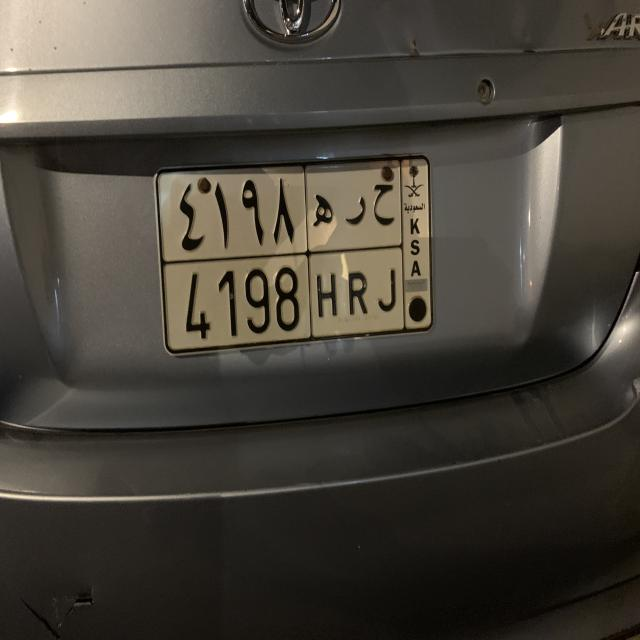license_plate: (151, 150, 436, 360)
